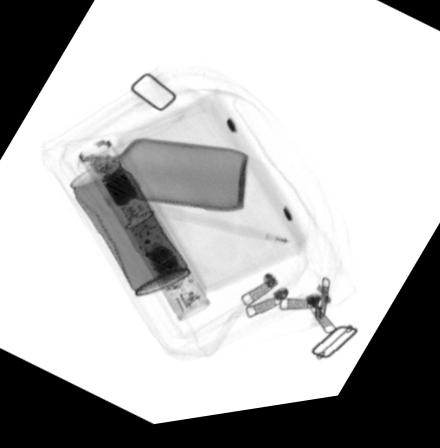Baton: (75, 141, 212, 330)
